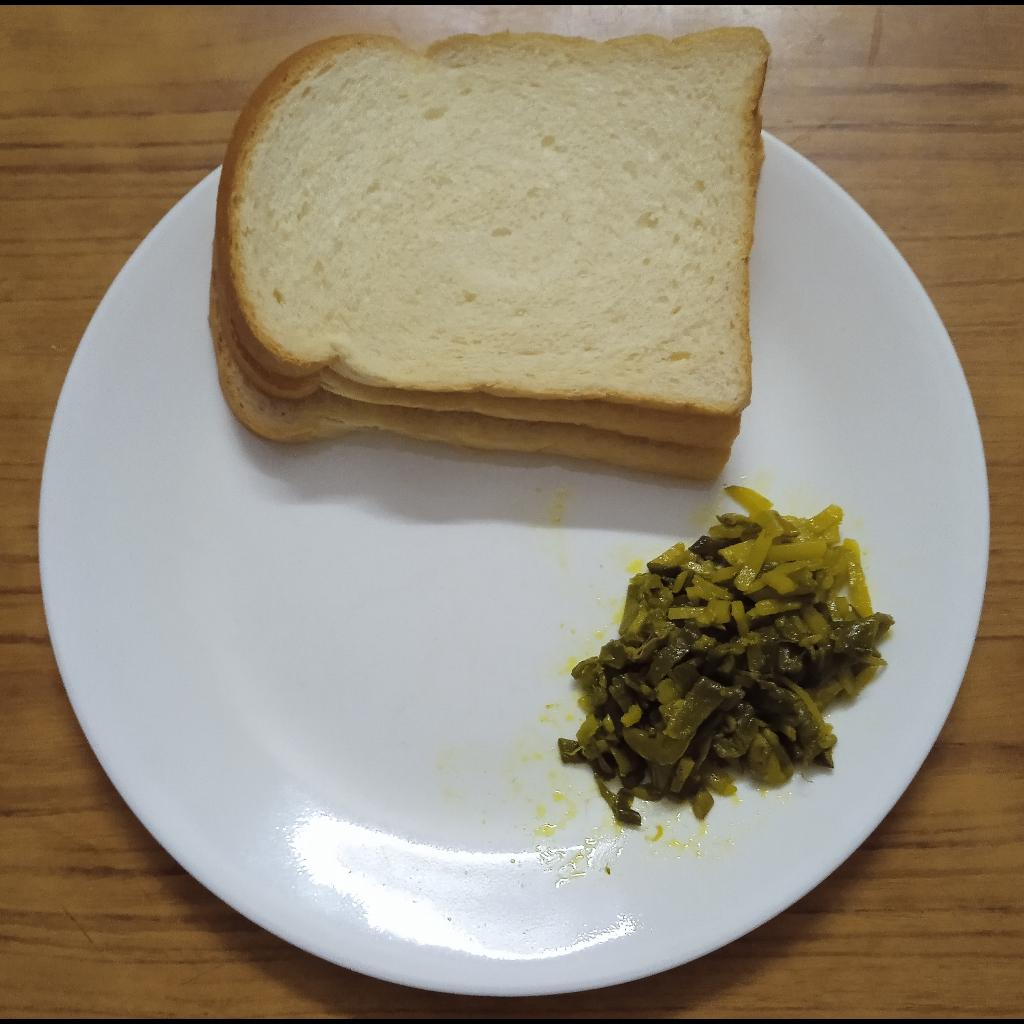bread: (208, 29, 771, 481)
vegetable: (559, 488, 893, 824)
